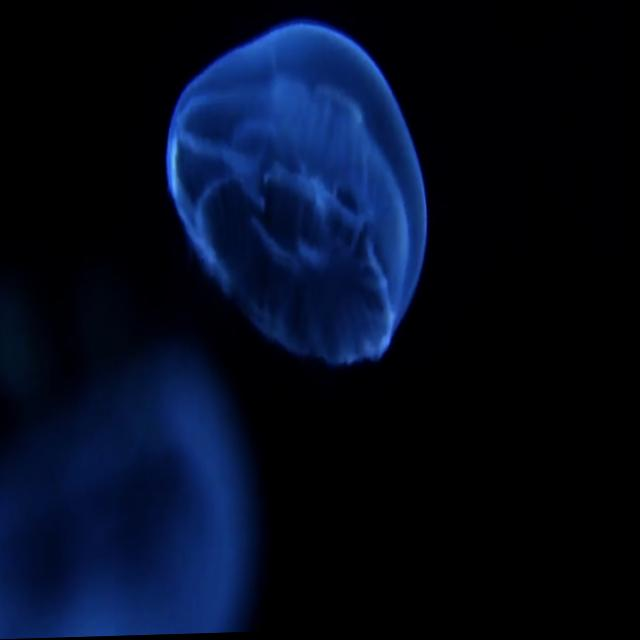Moon-jellyfish: (167, 23, 428, 366), (231, 125, 246, 137)
